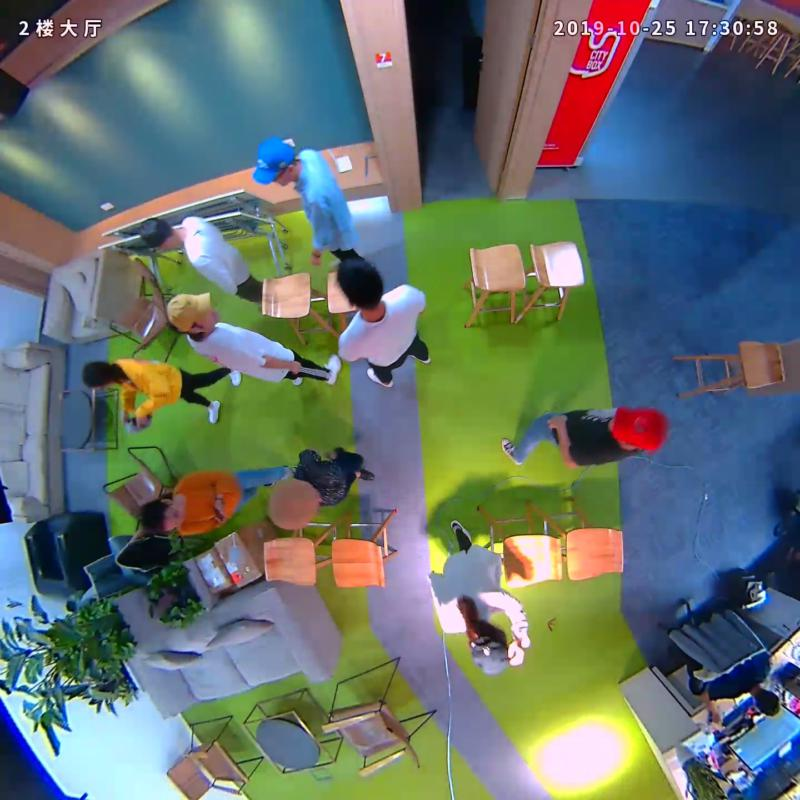head: (266, 479, 322, 531), (609, 405, 668, 454), (336, 256, 385, 312), (251, 135, 297, 187), (165, 292, 220, 335), (468, 621, 510, 675), (140, 499, 186, 535), (137, 217, 178, 252), (81, 360, 115, 389)
